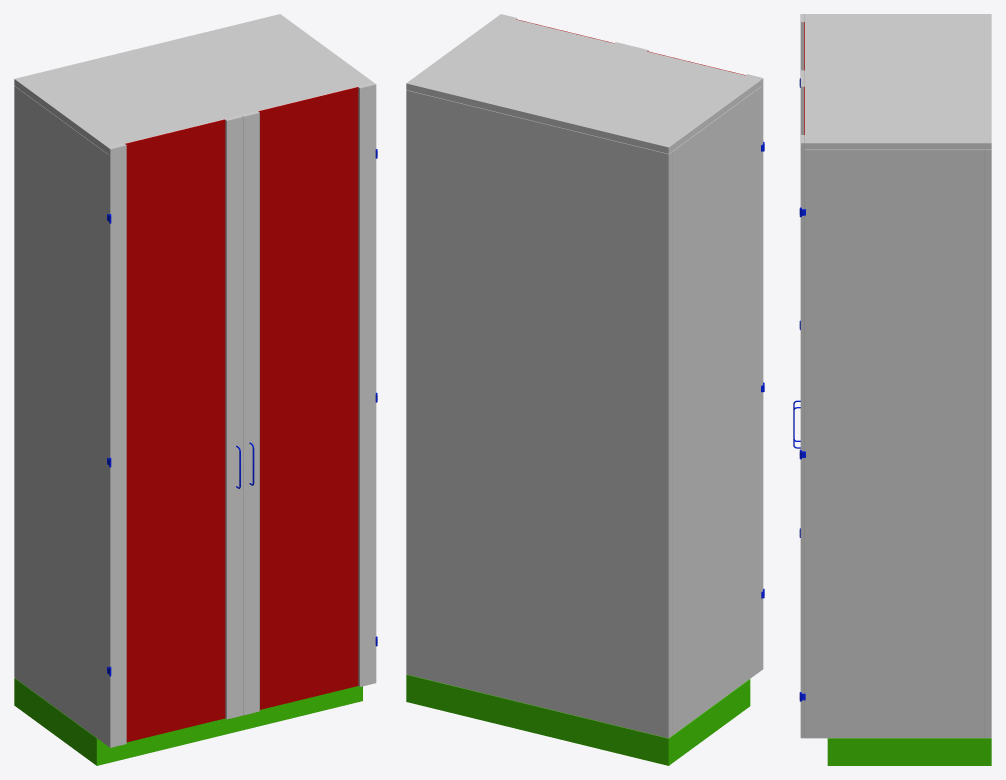
Rendered from Cabinet02b.fbx.
3 renders of one model, left to right at view 1: azimuth 30°, elevation 25°; view 2: azimuth 150°, elevation 25°; view 3: azimuth 270°, elevation 25°, orthographic.
Parts seen in each view (by area): view 1: Cabinet02b, CabinetDoor01, CabinetDoor02; view 2: Cabinet02b, CabinetDoor01; view 3: Cabinet02b, CabinetDoor02, CabinetDoor01.
Part boxes in pixels (bbox=[...]): Cabinet02b: bbox=[14, 14, 377, 765]; CabinetDoor01: bbox=[108, 115, 243, 747]; CabinetDoor02: bbox=[242, 83, 376, 715]; Cabinet02b: bbox=[406, 15, 764, 765]; CabinetDoor01: bbox=[631, 46, 763, 669]; Cabinet02b: bbox=[799, 14, 991, 765]; CabinetDoor02: bbox=[793, 78, 804, 738]; CabinetDoor01: bbox=[793, 14, 804, 441].
Size of the model in its own units: 101 by 65 by 225.
